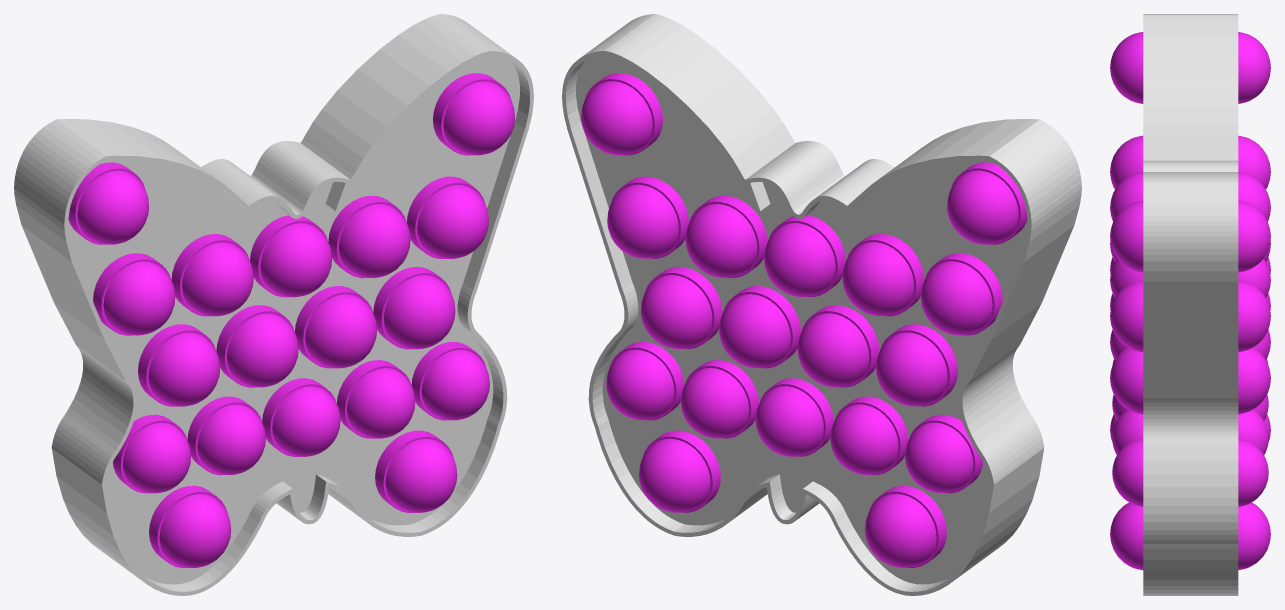
The picture shows the model from 3 angles, left to right: view 1: azimuth 30°, elevation 25°; view 2: azimuth 150°, elevation 25°; view 3: azimuth 270°, elevation 25°; orthographic projection. The views are drawn at different scales.
Visible parts, largest first — view 1: Extrude.012, Sphere.985, Sphere.980, Sphere.988, Sphere.987, Sphere.982, Sphere.981, Sphere.984, Sphere.986, Sphere.989, Sphere.995, Sphere.979 (+25 smaller); view 2: Extrude.012, Sphere.961, Sphere.966, Sphere.962, Sphere.968, Sphere.967, Sphere.977, Sphere.969, Sphere.978, Sphere.964, Sphere.970, Sphere.963 (+25 smaller); view 3: Extrude.012, Sphere.979, Sphere.984, Sphere.985, Sphere.961, Sphere.966, Sphere.967, Sphere.996, Sphere.989, Sphere.978, Sphere.971, Sphere.994 (+11 smaller).
Part boxes in pixels (x1=…): Extrude.012: x1=14, y1=14, x2=533, y2=595; Sphere.985: x1=443, y1=81, x2=514, y2=155; Sphere.980: x1=103, y1=261, x2=175, y2=335; Sphere.988: x1=305, y1=294, x2=376, y2=368; Sphere.987: x1=227, y1=313, x2=298, y2=387; Sphere.982: x1=260, y1=223, x2=331, y2=297; Sphere.981: x1=182, y1=242, x2=253, y2=316; Sphere.984: x1=417, y1=185, x2=488, y2=258; Sphere.986: x1=148, y1=332, x2=219, y2=406; Sphere.989: x1=384, y1=275, x2=455, y2=349; Sphere.995: x1=159, y1=494, x2=231, y2=567; Sphere.979: x1=77, y1=170, x2=148, y2=244; Extrude.012: x1=562, y1=14, x2=1081, y2=595; Sphere.961: x1=947, y1=170, x2=1018, y2=244; Sphere.966: x1=607, y1=184, x2=678, y2=258; Sphere.962: x1=921, y1=261, x2=992, y2=335; Sphere.968: x1=876, y1=332, x2=947, y2=406; Sphere.967: x1=581, y1=81, x2=652, y2=155; Sphere.977: x1=865, y1=493, x2=936, y2=567; Sphere.969: x1=797, y1=313, x2=869, y2=387; Sphere.978: x1=639, y1=438, x2=710, y2=512; Sphere.964: x1=764, y1=223, x2=835, y2=296; Sphere.970: x1=719, y1=294, x2=790, y2=368; Sphere.963: x1=842, y1=242, x2=913, y2=316; Extrude.012: x1=1143, y1=14, x2=1238, y2=595; Sphere.979: x1=1110, y1=32, x2=1143, y2=103; Sphere.984: x1=1110, y1=280, x2=1143, y2=352; Sphere.985: x1=1110, y1=200, x2=1143, y2=272; Sphere.961: x1=1238, y1=32, x2=1270, y2=103; Sphere.966: x1=1238, y1=280, x2=1270, y2=352; Sphere.967: x1=1238, y1=200, x2=1270, y2=272; Sphere.996: x1=1110, y1=502, x2=1143, y2=570; Sphere.989: x1=1110, y1=347, x2=1143, y2=414; Sphere.978: x1=1238, y1=502, x2=1270, y2=570; Sphere.971: x1=1238, y1=347, x2=1270, y2=414; Sphere.994: x1=1112, y1=438, x2=1143, y2=506.
Bounding box in the file's own units: 17.96 × 17.24 × 5.65.
